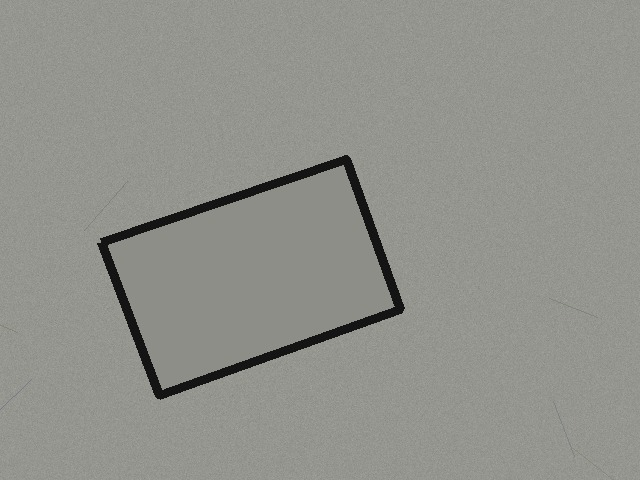parking_area: (101, 159, 400, 395)
